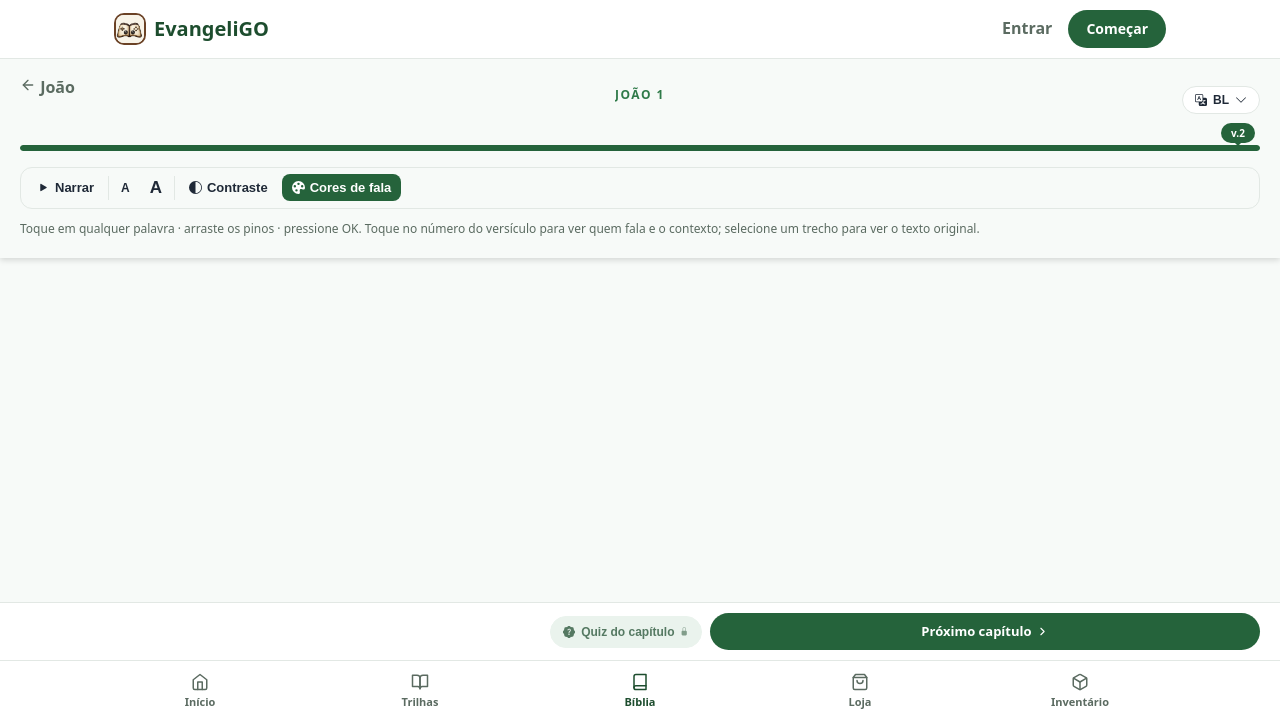
Test: LeituraPage › com síntese de voz disponível, Narrar aciona a fala e alterna para Parar
The image size is (1280, 720).
Click the button "Narrar". click: (66, 188)
box: [27, 174, 104, 202]
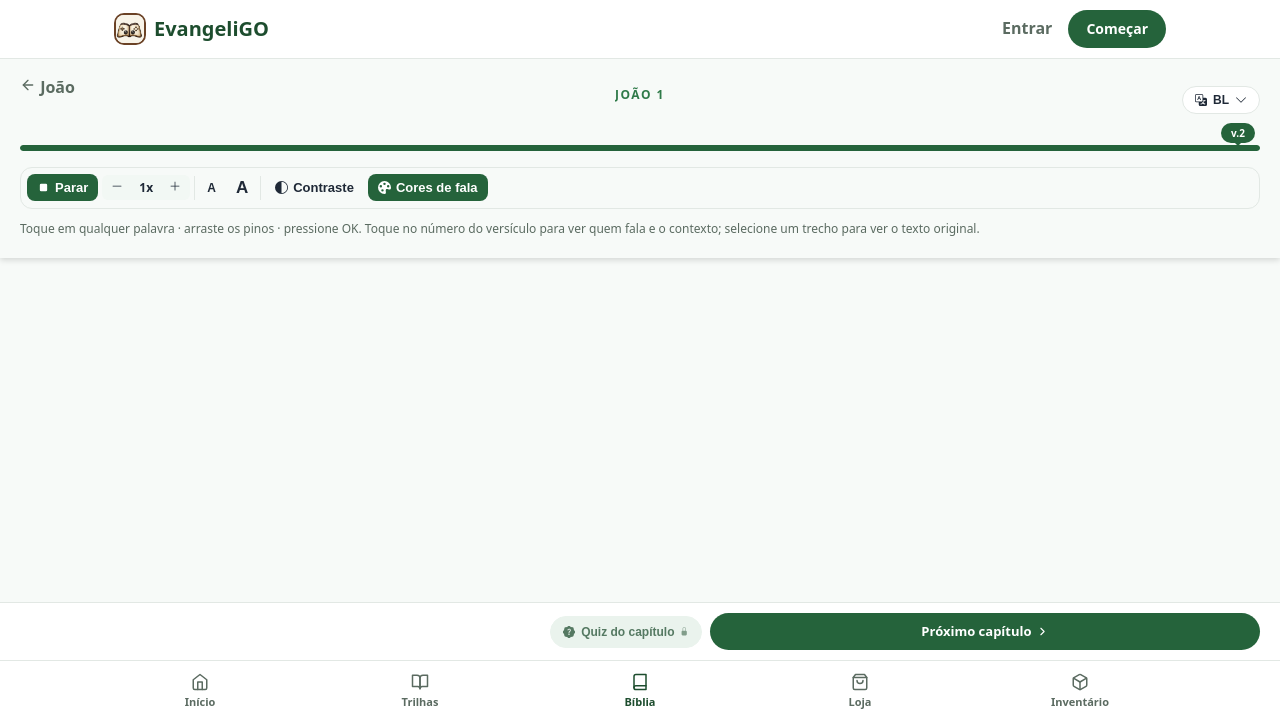
Now the button "Parar" is shown, box [27, 174, 98, 202]
